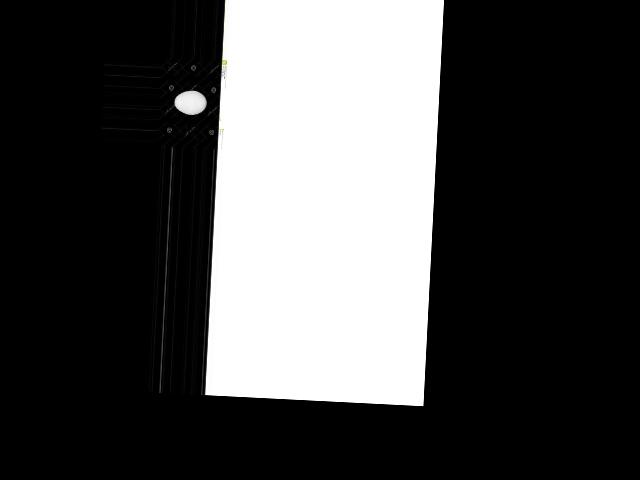egg: (174, 90, 207, 116)
